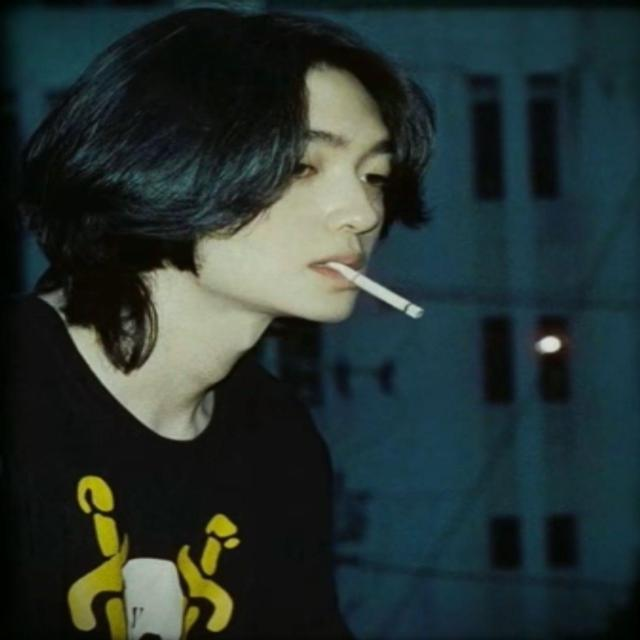cigarette: (320, 246, 434, 340)
